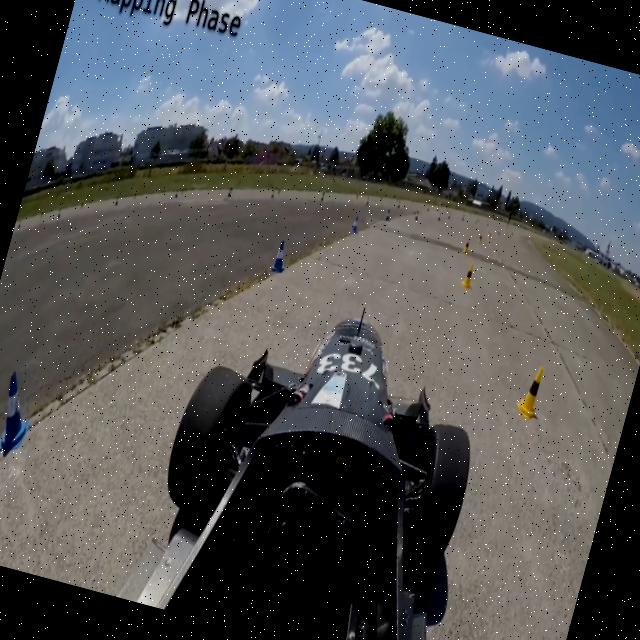blue_cone: (0, 369, 44, 457), (264, 230, 294, 278), (348, 208, 363, 239), (380, 201, 394, 228)
yellow_cone: (508, 356, 551, 426), (459, 264, 476, 288), (460, 238, 470, 255)
